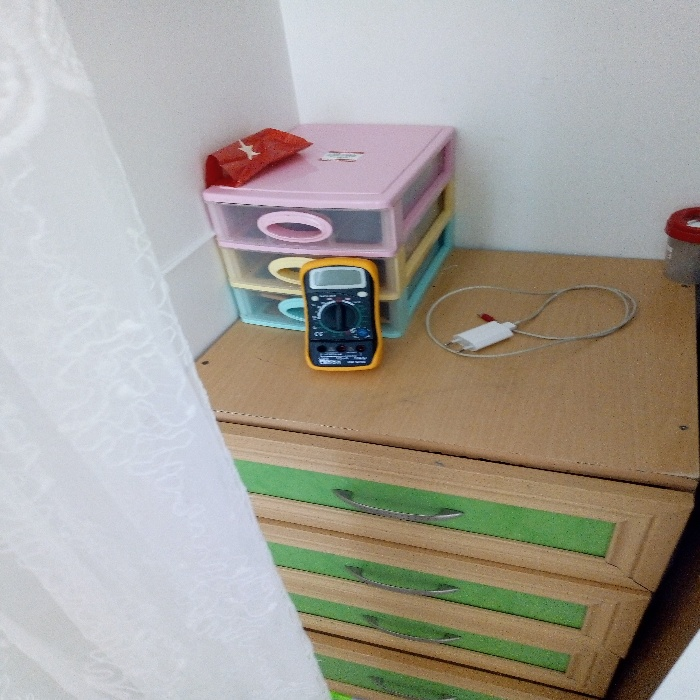multimetre: (283, 251, 395, 377)
